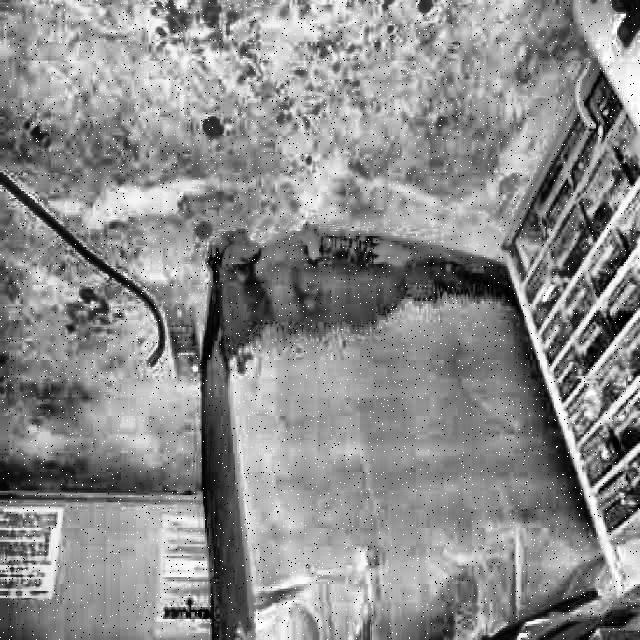box: (181, 213, 617, 640)
wet: (214, 229, 517, 372)
